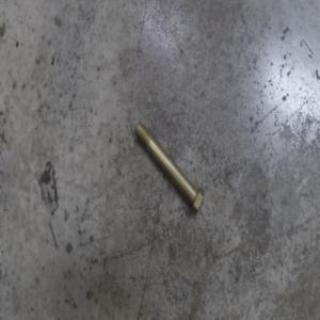Bolttrack_idkeyframe: (133, 119, 204, 215)
